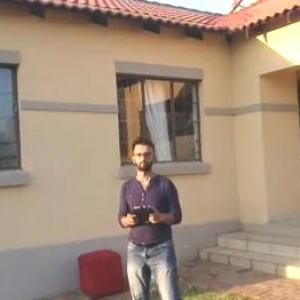follow: (114, 132, 202, 299)
